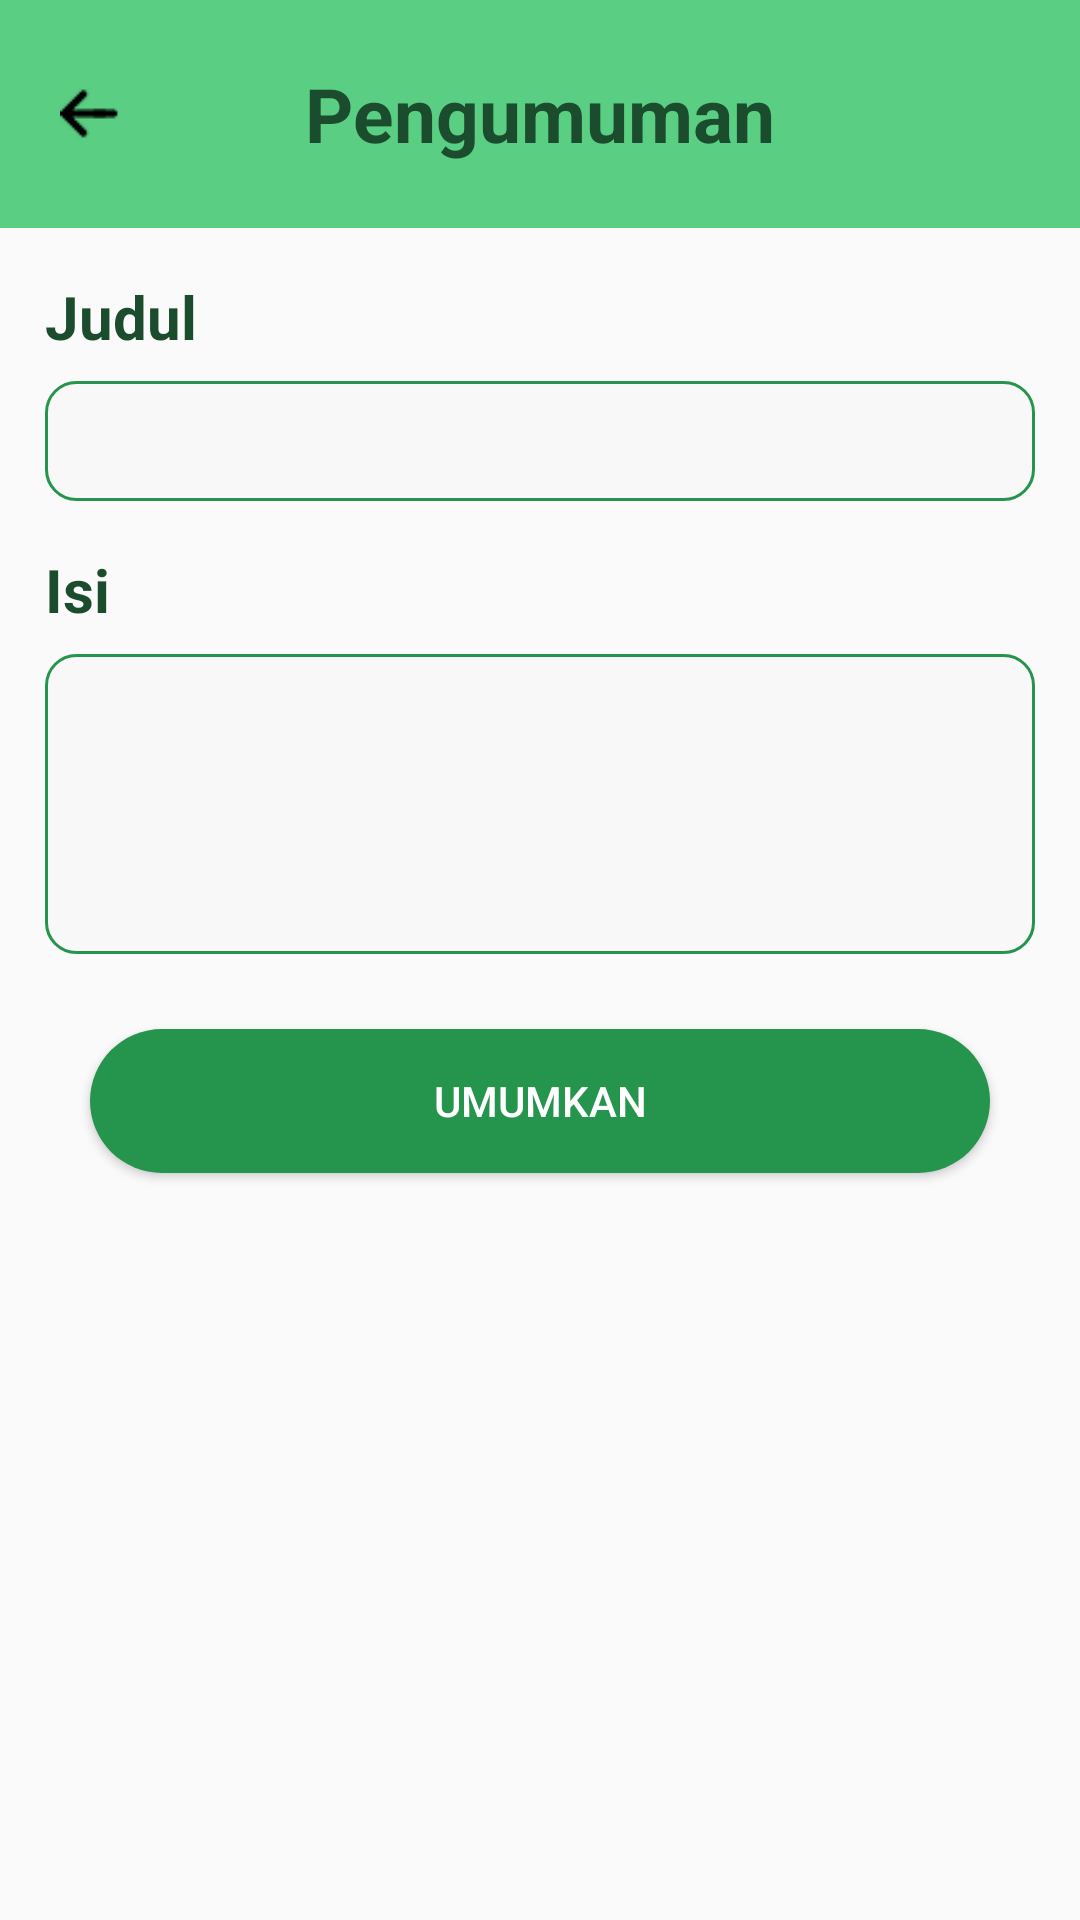

Locate icon controls on the screen. Image size 1080px x 1920px, boxes as (x1,y1,x2,y2).
back: (60,89,118,138)
